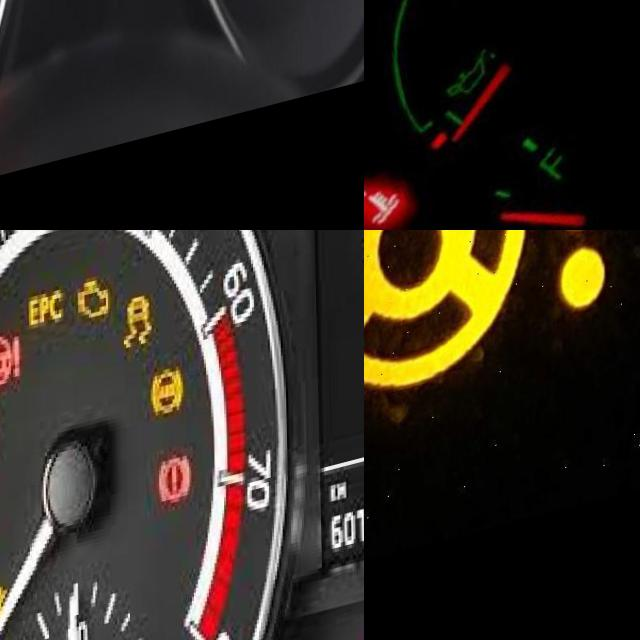Electronic Power Steering: (0, 336, 22, 399)
Electronic Power Steering Warning: (364, 230, 608, 435)
Engine cooling system: (364, 187, 400, 230)
